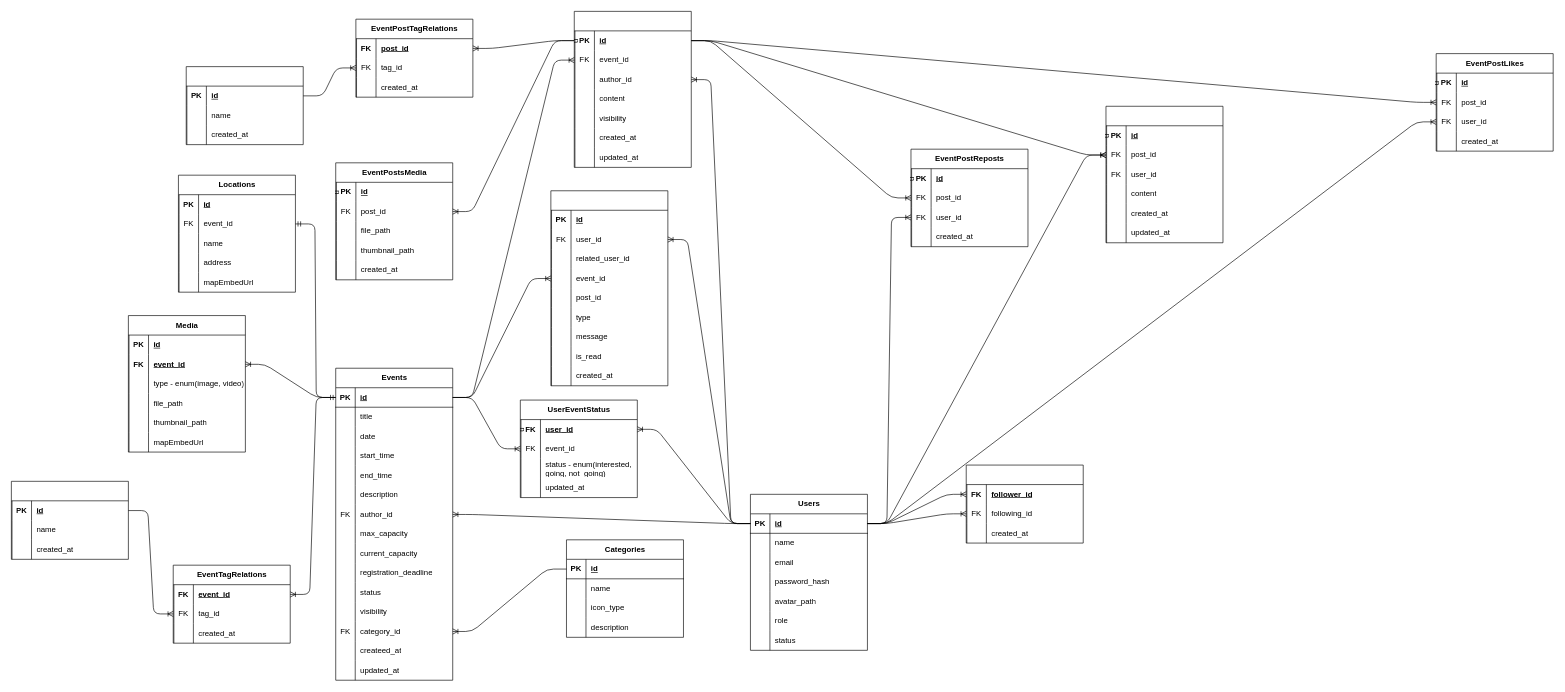
The diagram is 1565 pixels wide and 692 high, and some of its shapes have lost their labels. Here are the shapes that lost their labels. From the top down, the box of each, then its label:
(186, 66, 303, 145): EventPostTags
(574, 11, 691, 167): EventPosts
(1105, 106, 1223, 243): EventPostComments
(550, 190, 668, 386): Notifications
(11, 481, 128, 559): EventTags
(966, 464, 1083, 543): UserRelationships
